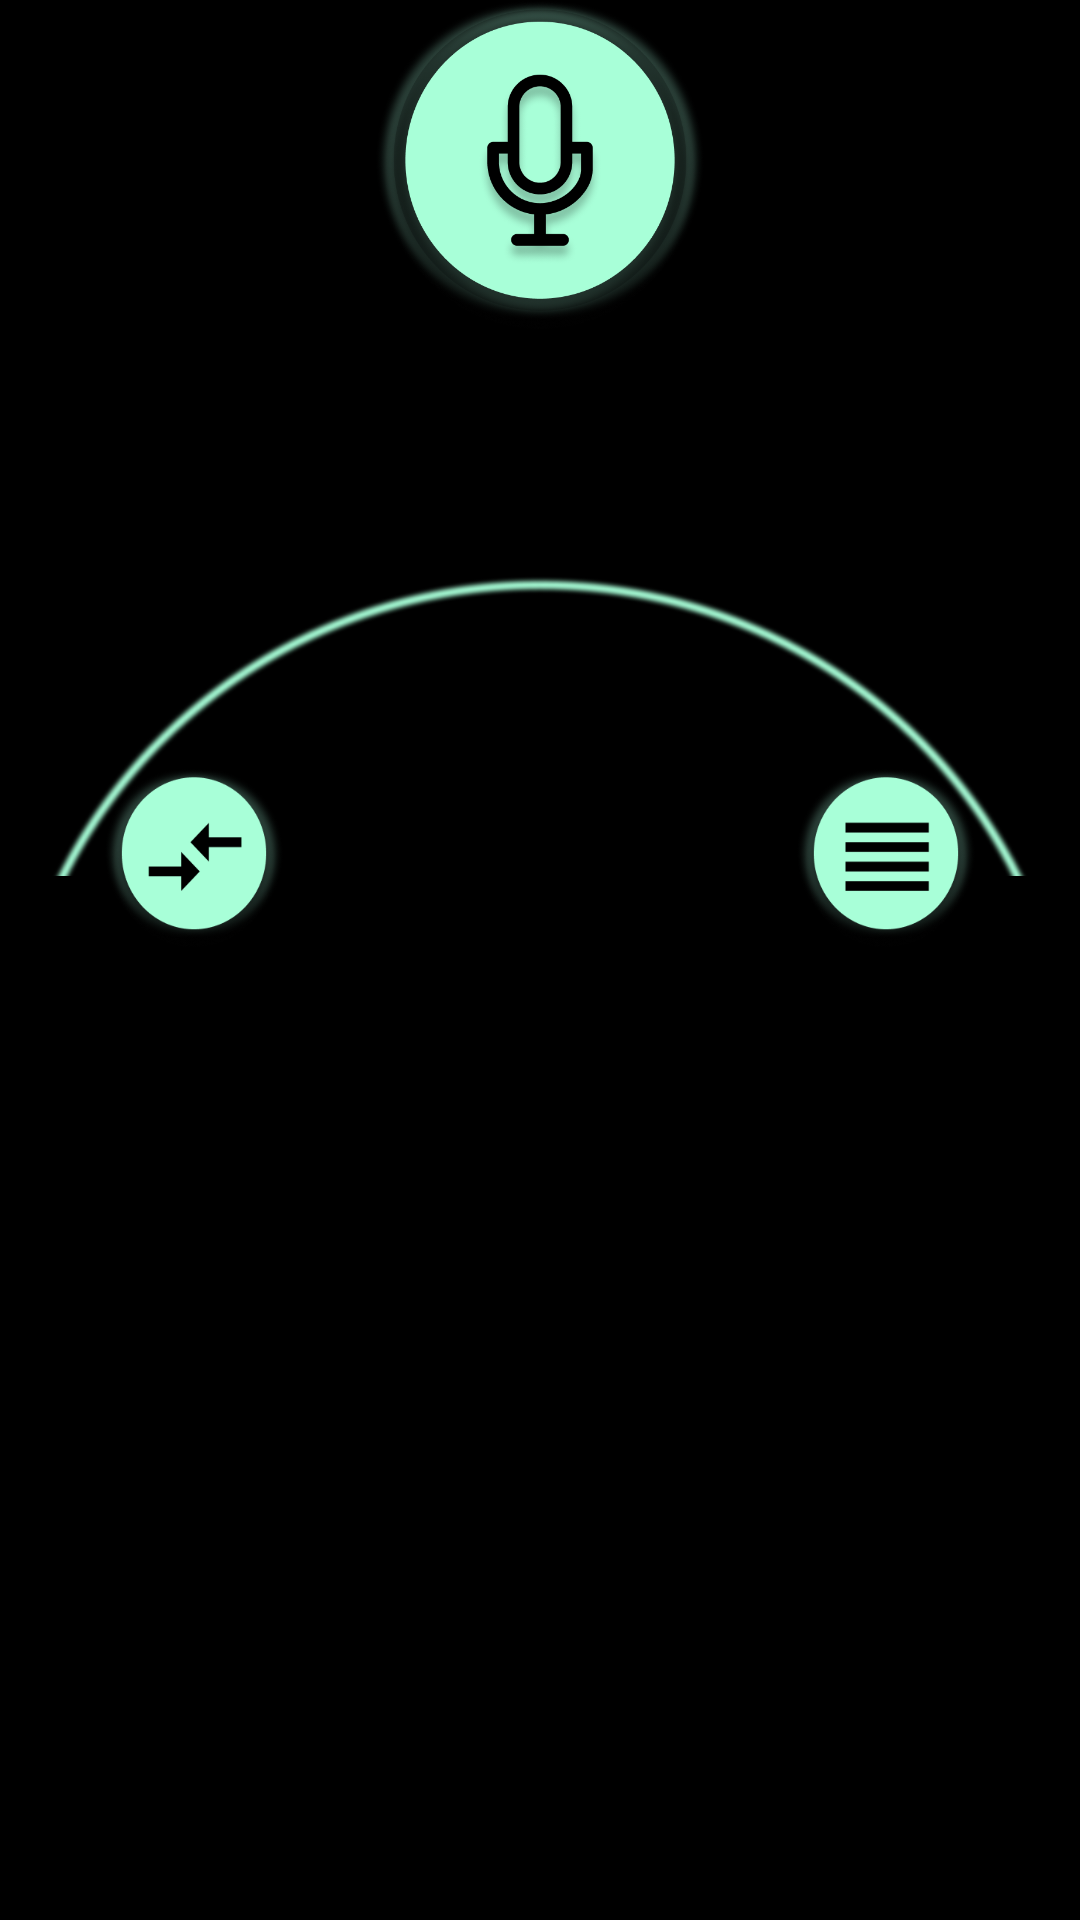

Where to tap for icons on this 1080*1920 app screen, as [x,y]:
mic button: [540,159]
